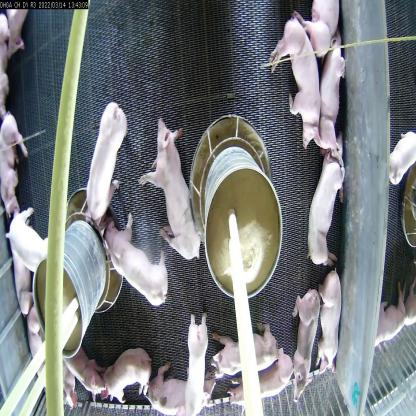Pig: (145, 124, 216, 269), (98, 222, 179, 334), (86, 106, 134, 230), (274, 18, 316, 146), (310, 41, 350, 155), (230, 349, 302, 412), (204, 319, 278, 380), (0, 111, 32, 242), (142, 353, 208, 416), (288, 284, 321, 401), (102, 342, 154, 410), (181, 307, 213, 415), (307, 161, 341, 260), (8, 204, 47, 284), (319, 281, 349, 385), (1, 246, 35, 334), (303, 4, 344, 70), (64, 342, 110, 393), (373, 290, 402, 344)
